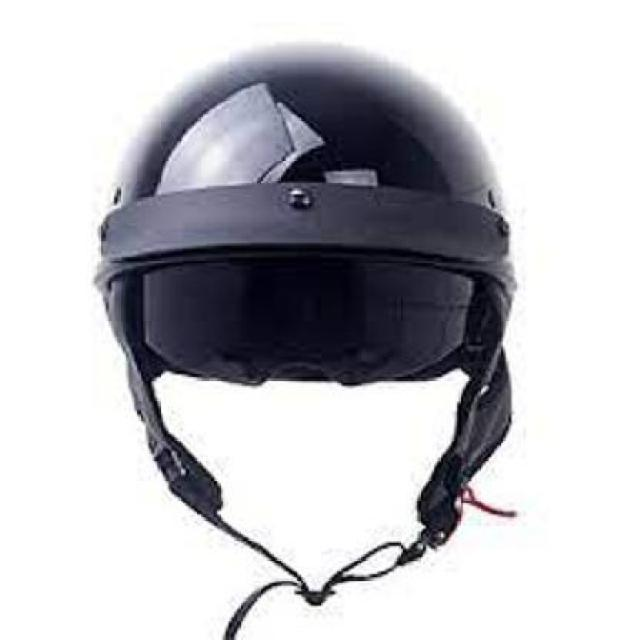not trash: (93, 37, 519, 598)
